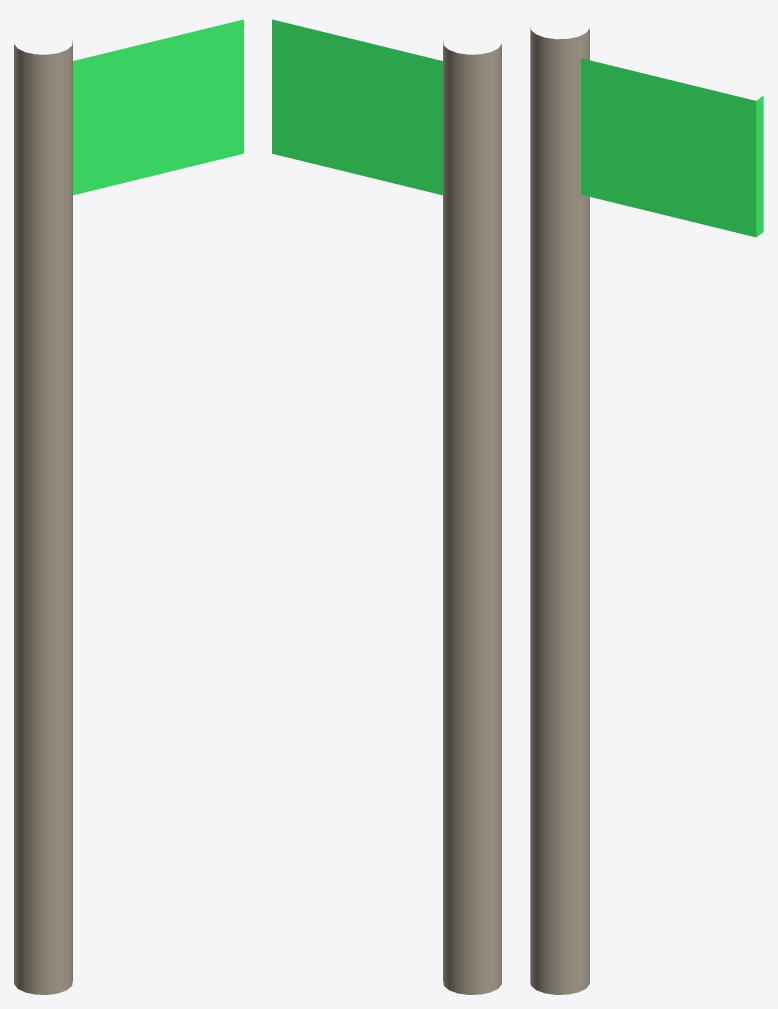
Rendered from model.checkpoint.glb.
The picture shows the model from 3 angles, left to right: view 1: azimuth 30°, elevation 25°; view 2: azimuth 150°, elevation 25°; view 3: azimuth 330°, elevation 25°; orthographic projection.
Visible parts, largest first — view 1: checkpoint; view 2: checkpoint; view 3: checkpoint.
Boxes of the visible parts, <box> form: checkpoint: <box>14,19,243,994</box>; checkpoint: <box>272,19,501,994</box>; checkpoint: <box>530,27,763,994</box>.
Bounding box in the file's own units: 0.52 × 2.1 × 0.1201.
